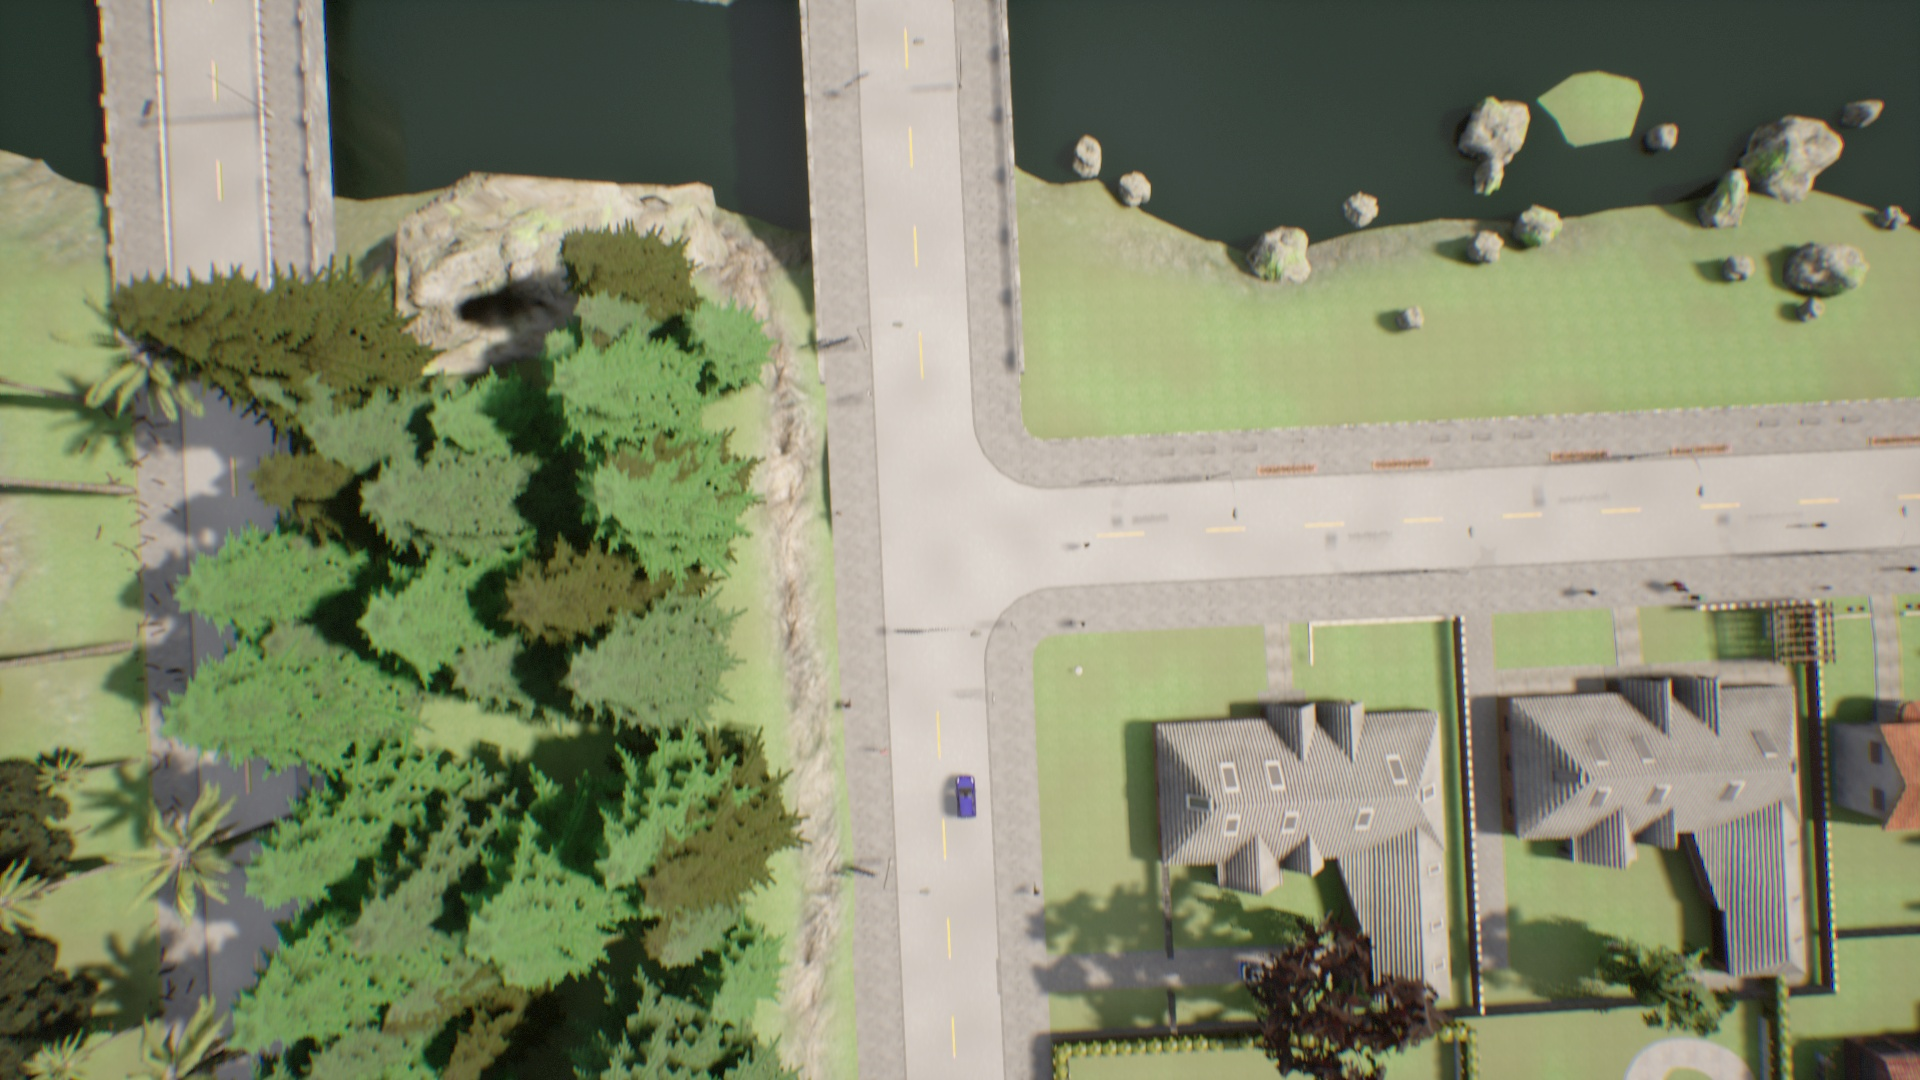Car: (949, 775, 980, 814)
